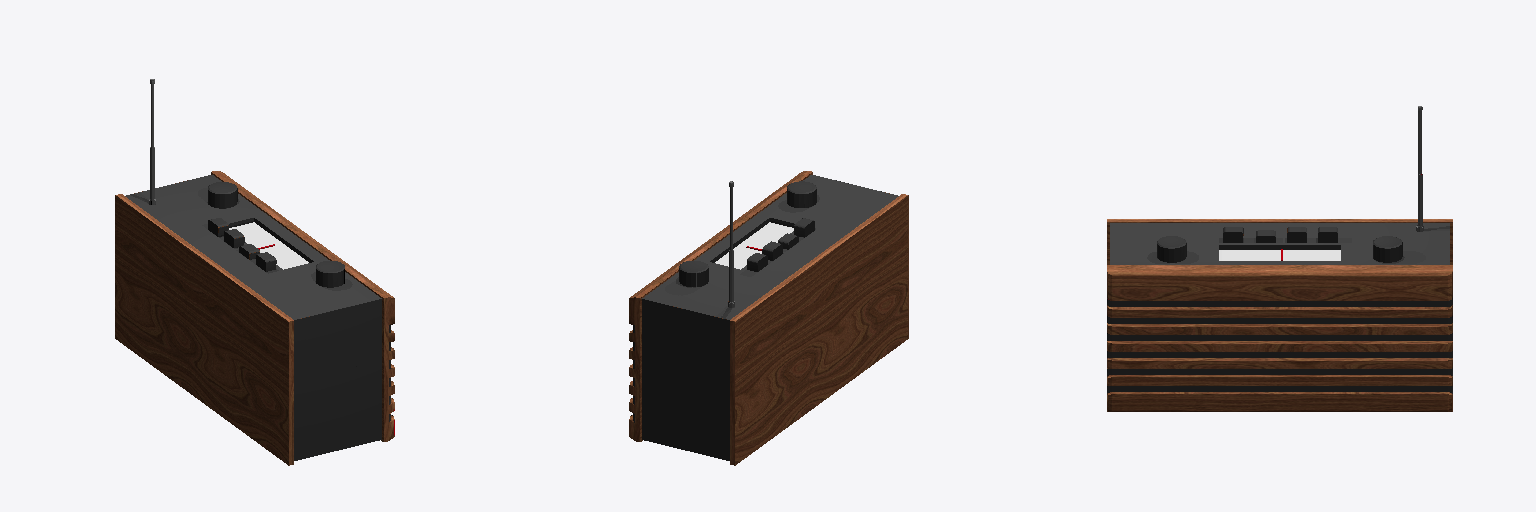
3 renders of one model, left to right at view 1: azimuth 30°, elevation 25°; view 2: azimuth 150°, elevation 25°; view 3: azimuth 270°, elevation 25°, orthographic.
Visible parts, largest first — view 1: Radio_Cube; view 2: Radio_Cube; view 3: Radio_Cube.
Boxes of the visible parts, <box> form: Radio_Cube: <box>115,79,394,465</box>; Radio_Cube: <box>629,171,908,465</box>; Radio_Cube: <box>1107,106,1452,411</box>.
Size of the model in its own units: 4.7 by 11.1 by 13.08.
1 materials, 1 textured.